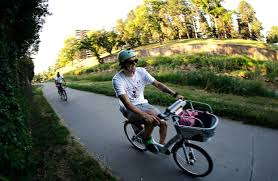helmet: (117, 50, 139, 72)
